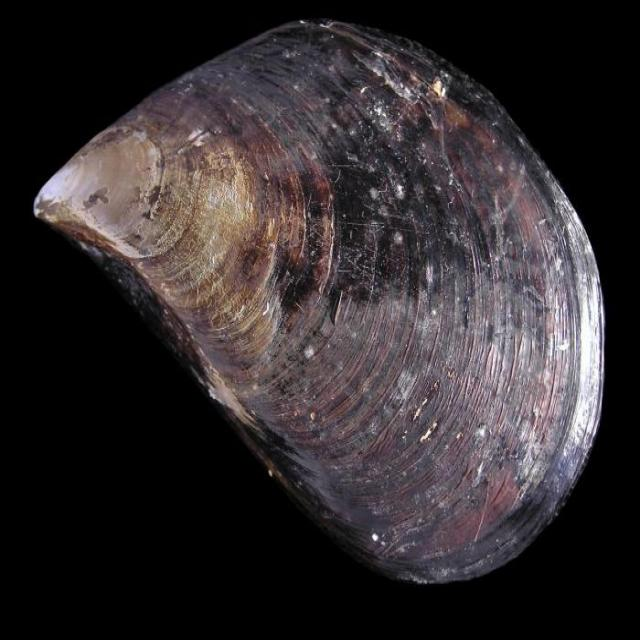Mytilus_galloprovincialis: (36, 24, 606, 584)
